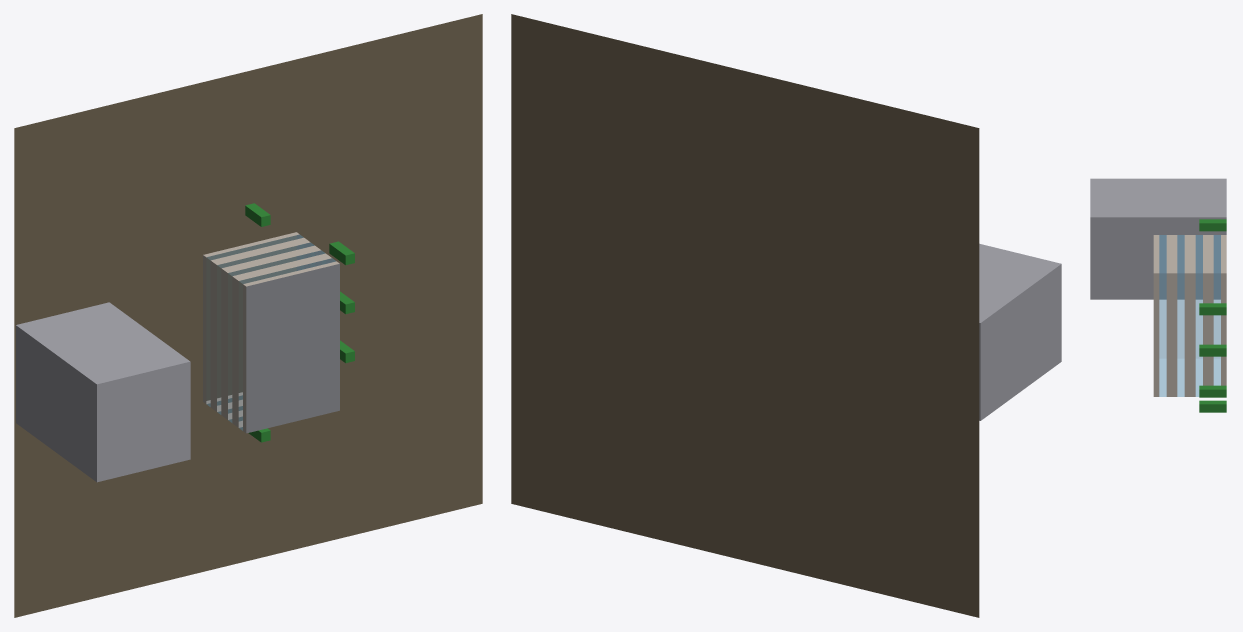
3 renders of one model, left to right at view 1: azimuth 30°, elevation 25°; view 2: azimuth 150°, elevation 25°; view 3: azimuth 270°, elevation 25°, orthographic. The views are drawn at different scales.
Parts seen in each view (by area): view 1: Tanah, Bangunan_Tetangga, Atap_Beton, Dinding_Bata, Kaca_Jendela, Pohon; view 2: Tanah, Bangunan_Tetangga; view 3: Bangunan_Tetangga, Dinding_Bata, Kaca_Jendela, Pohon.
Boxes of the visible parts, box(x1,y1,x2,y2) form: Tanah: box(14, 14, 482, 617); Bangunan_Tetangga: box(16, 302, 190, 482); Atap_Beton: box(246, 264, 339, 433); Dinding_Bata: box(203, 232, 339, 432); Kaca_Jendela: box(206, 235, 335, 430); Pohon: box(245, 203, 354, 442); Tanah: box(511, 14, 979, 617); Bangunan_Tetangga: box(979, 243, 1061, 420); Bangunan_Tetangga: box(1090, 178, 1226, 299); Dinding_Bata: box(1153, 235, 1226, 396); Kaca_Jendela: box(1159, 235, 1220, 396); Pohon: box(1199, 219, 1226, 412).
Bounding box in the file's own units: 100 × 100 × 30.5.
